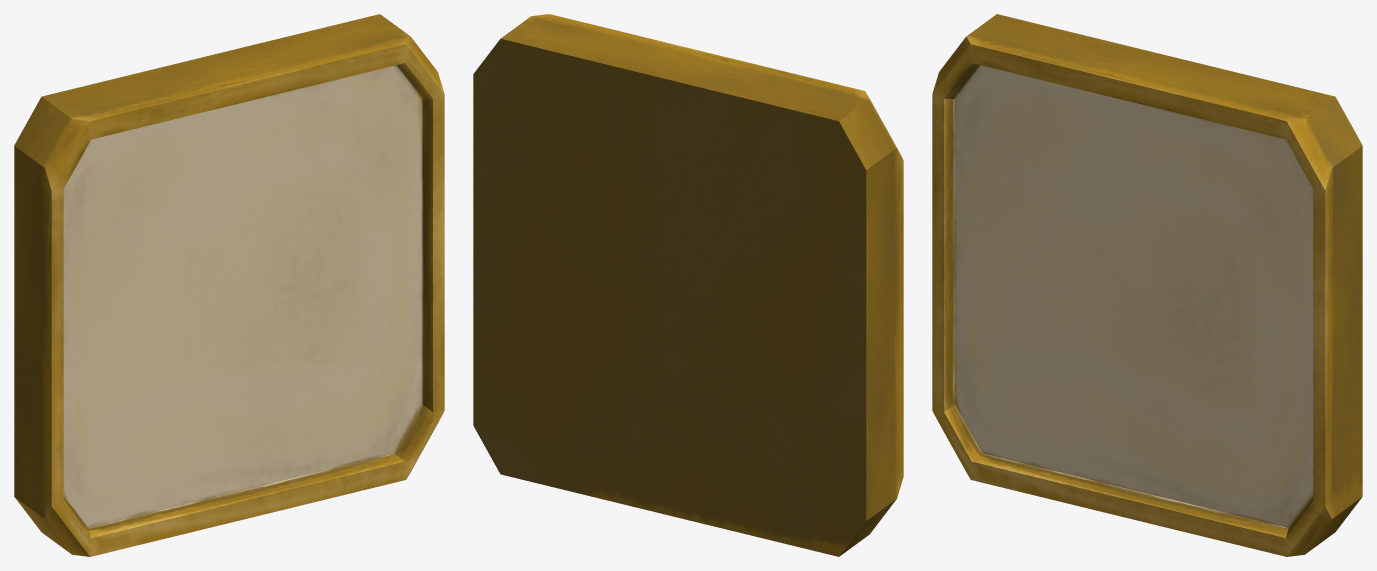
Rendered from cursor_keyboardPrompt.fbx.
3 renders of one model, left to right at view 1: azimuth 30°, elevation 25°; view 2: azimuth 150°, elevation 25°; view 3: azimuth 330°, elevation 25°, orthographic.
Visible parts, largest first — view 1: Box086; view 2: Box086; view 3: Box086.
Boxes of the visible parts, box(x1,y1,x2,y2) form: Box086: box(14, 14, 444, 556); Box086: box(473, 14, 903, 556); Box086: box(932, 14, 1362, 556).
Bounding box in the file's own units: 4.07 × 4.31 × 0.6716.
Materials: 1 (1 with a texture image).
